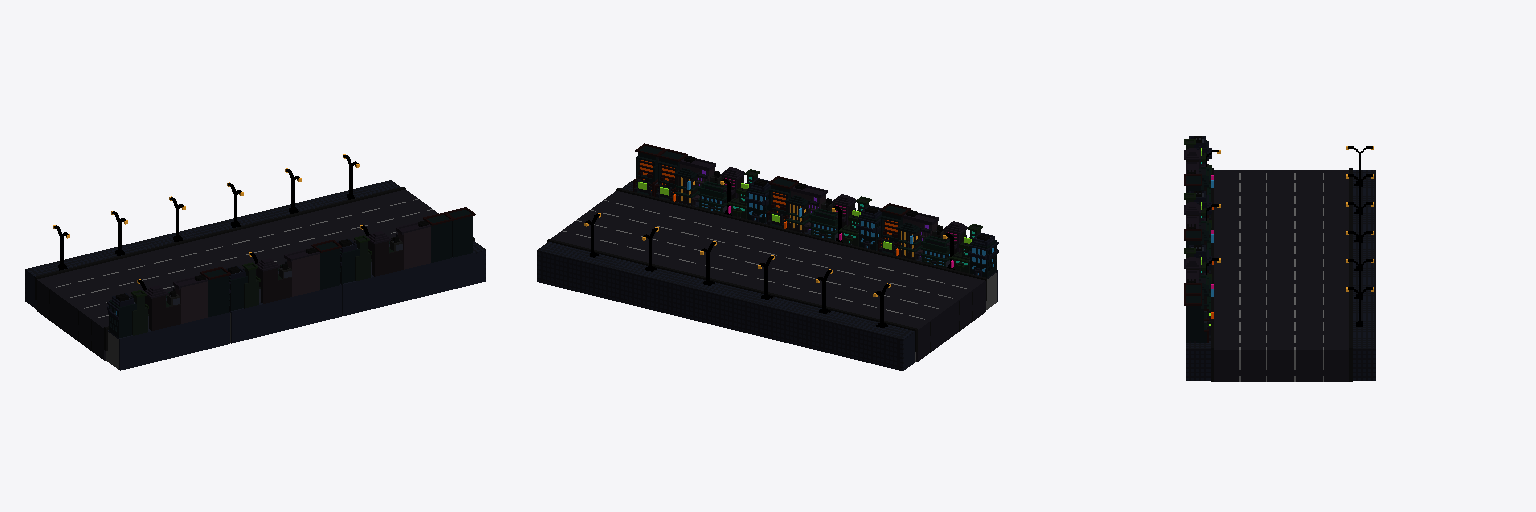
3 renders of one model, left to right at view 1: azimuth 30°, elevation 25°; view 2: azimuth 150°, elevation 25°; view 3: azimuth 270°, elevation 25°, orthographic.
Visible parts, largest first — view 1: object 1; view 2: object 1; view 3: object 1.
Boxes of the visible parts, x1=… form: object 1: x1=25, y1=154, x2=485, y2=370; object 1: x1=537, y1=143, x2=998, y2=370; object 1: x1=1184, y1=136, x2=1375, y2=381.
Size of the model in its own units: 25.5 by 4.7 by 11.5.
1 materials, 1 textured.